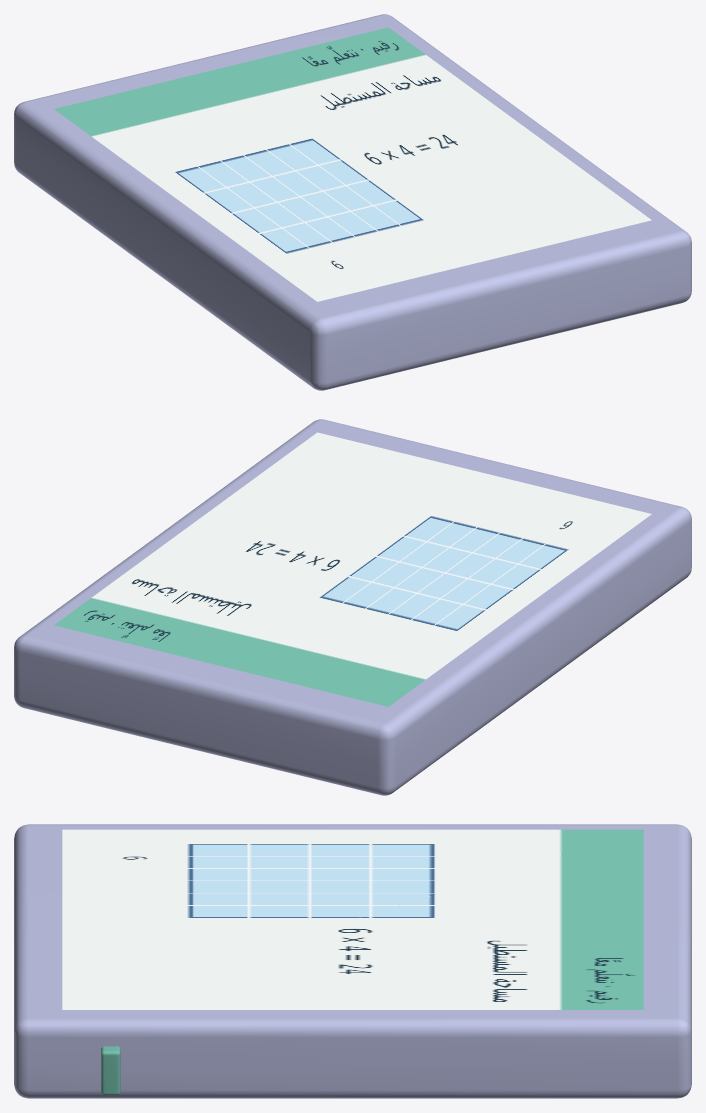
File: classroom_tablet.glb
3 views of the same model, one above another, from view 1: azimuth 30°, elevation 25°; view 2: azimuth 150°, elevation 25°; view 3: azimuth 270°, elevation 25° (orthographic). The views are drawn at different scales.
Visible parts, largest first — view 1: Tablet_Display, Tablet_Case; view 2: Tablet_Display, Tablet_Case; view 3: Tablet_Display, Tablet_Case, Tablet_Power_Cap.
Boxes of the visible parts, x1,y1,x2,y2 form: Tablet_Display: (54,27,651,301); Tablet_Case: (14,14,691,390); Tablet_Display: (54,432,651,706); Tablet_Case: (14,419,691,795); Tablet_Display: (62,829,643,1009); Tablet_Case: (14,824,691,1098); Tablet_Power_Cap: (101,1046,120,1094).
Bounding box in the file's own units: 0.206 × 0.037 × 0.28.
Materials: 4 (1 with a texture image).
